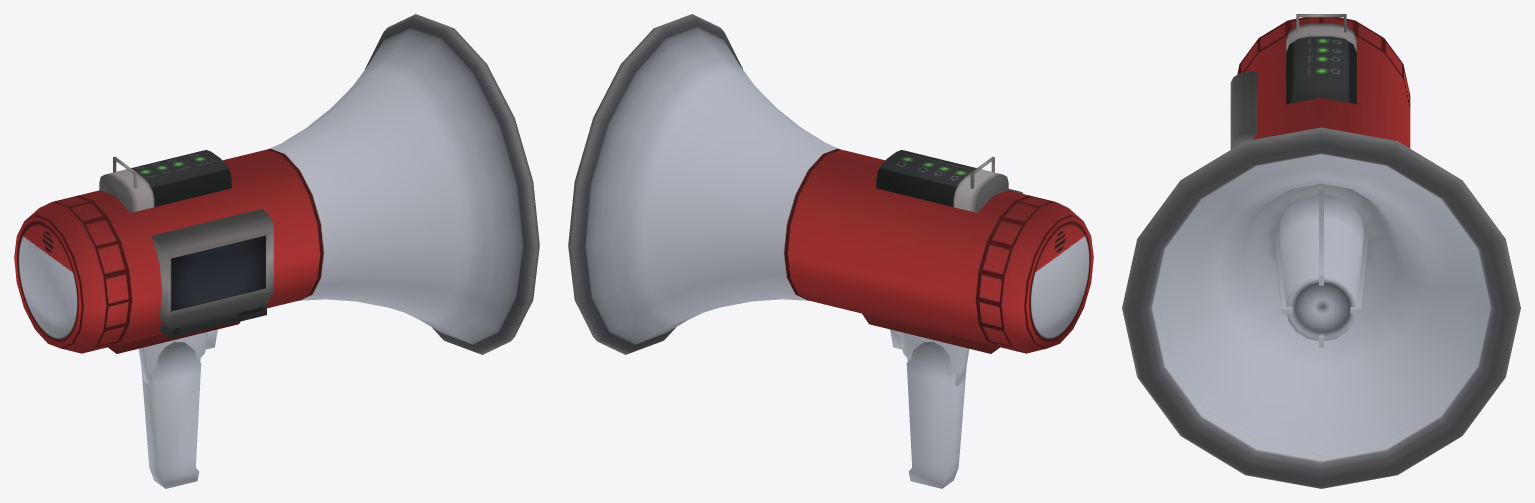
The model's file is megaphone.glb.
3 views of the same model, side by side, from view 1: azimuth 30°, elevation 25°; view 2: azimuth 150°, elevation 25°; view 3: azimuth 270°, elevation 25° (orthographic). The views are drawn at different scales.
Parts seen in each view (by area): view 1: Megaphone, Handle; view 2: Megaphone, Handle; view 3: Megaphone.
Boxes of the visible parts, box(x1,y1,x2,y2) form: Megaphone: box(14, 14, 539, 386); Handle: box(141, 341, 201, 488); Megaphone: box(568, 14, 1093, 386); Handle: box(906, 341, 966, 488); Megaphone: box(1122, 14, 1520, 488).
Bounding box in the file's own units: 2 × 1.81 × 1.48.
Materials: 1 (1 with a texture image).
